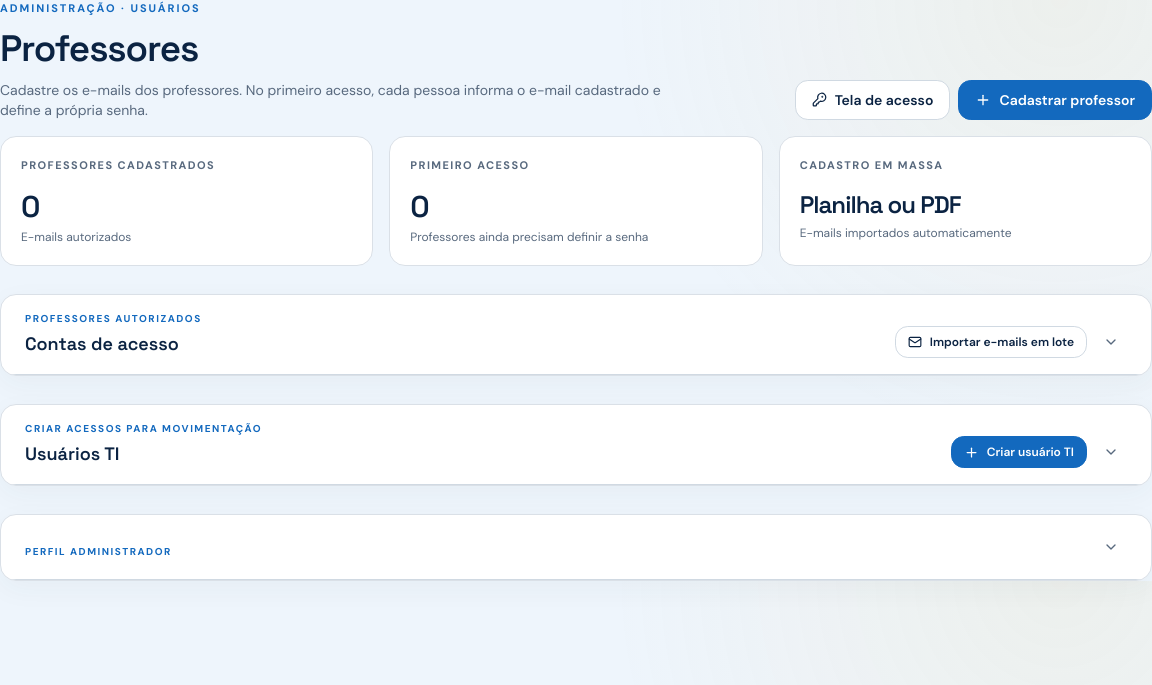
Test case: Teacher first access › Staff password changes › saves an administrator password through the administrator profile, not the TI profile
Click the button named "Maximizar Perfil administrador": (1111,547) [1095, 531, 1127, 563]
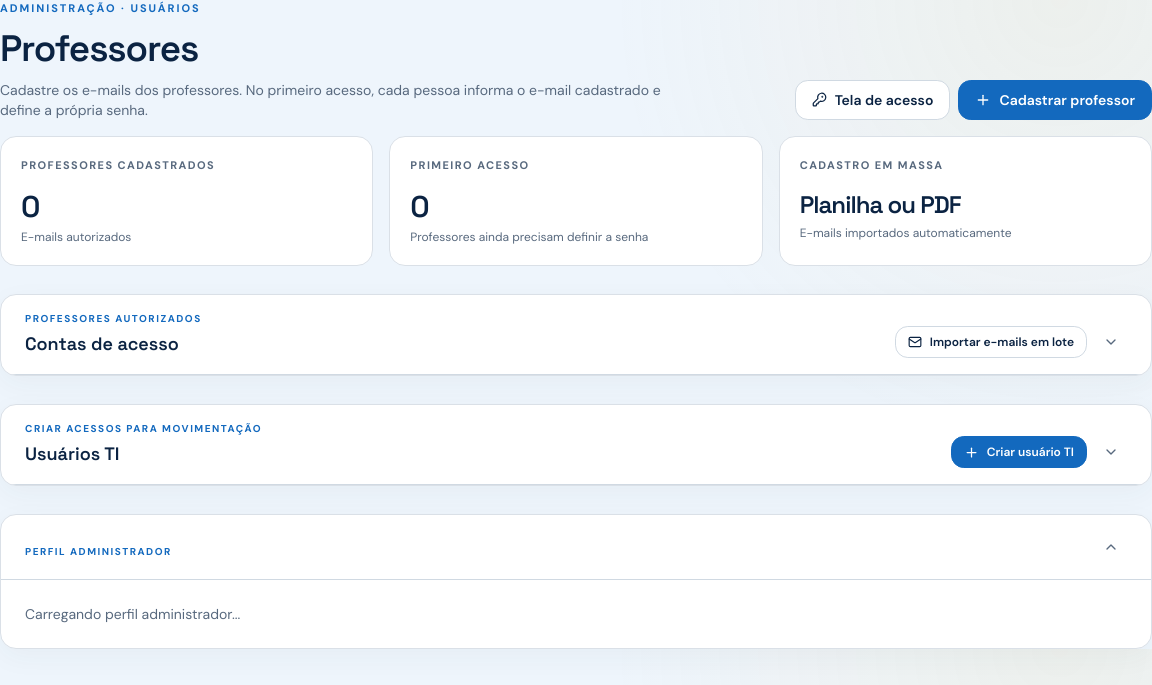
Click the button named "Maximizar Usuários TI": (1111,452) [1095, 436, 1127, 468]
(page scrolled)
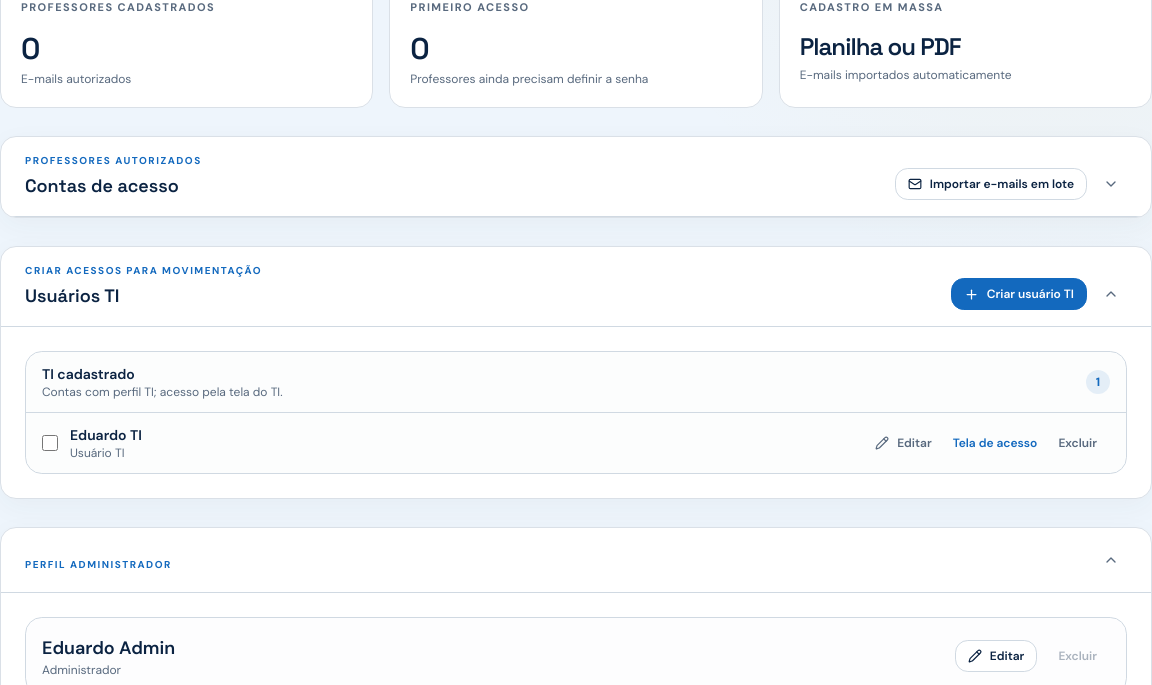
Check: the text "Eduardo TI" is shown, box [70, 425, 142, 445]
Click the button "Editar" in the row of "Eduardo Admin": (996,656) [955, 640, 1037, 672]
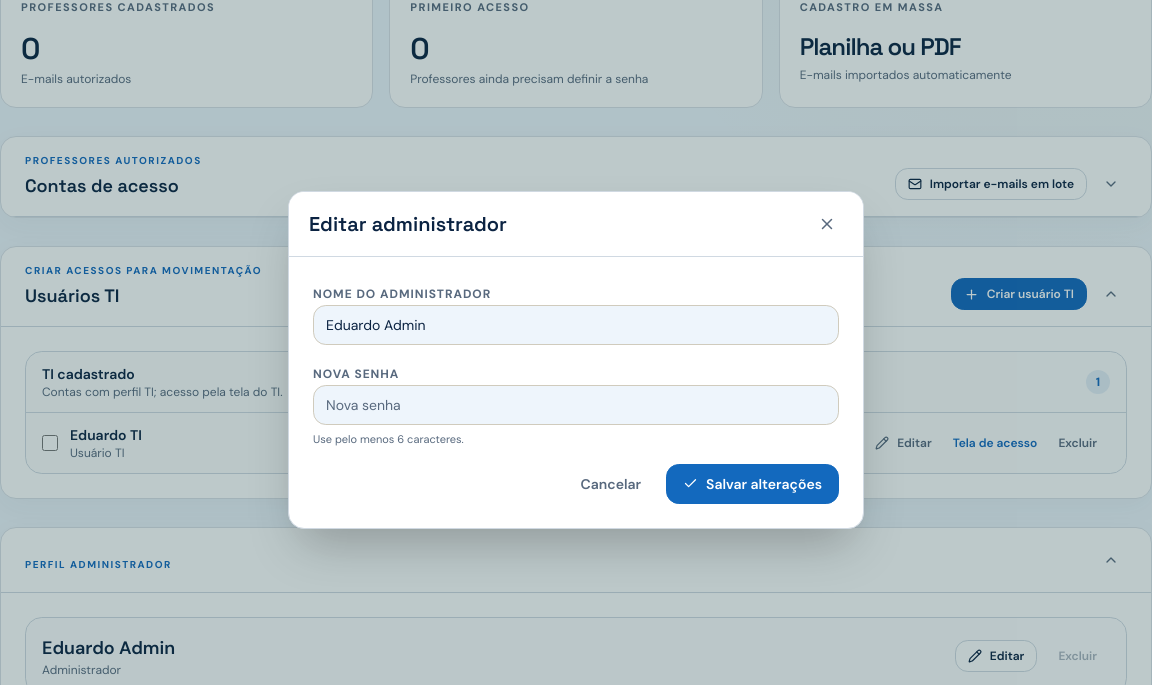
In the password field with placeholder "Nova senha": (576,405) [313, 385, 839, 425], type "nova-senha-admin"
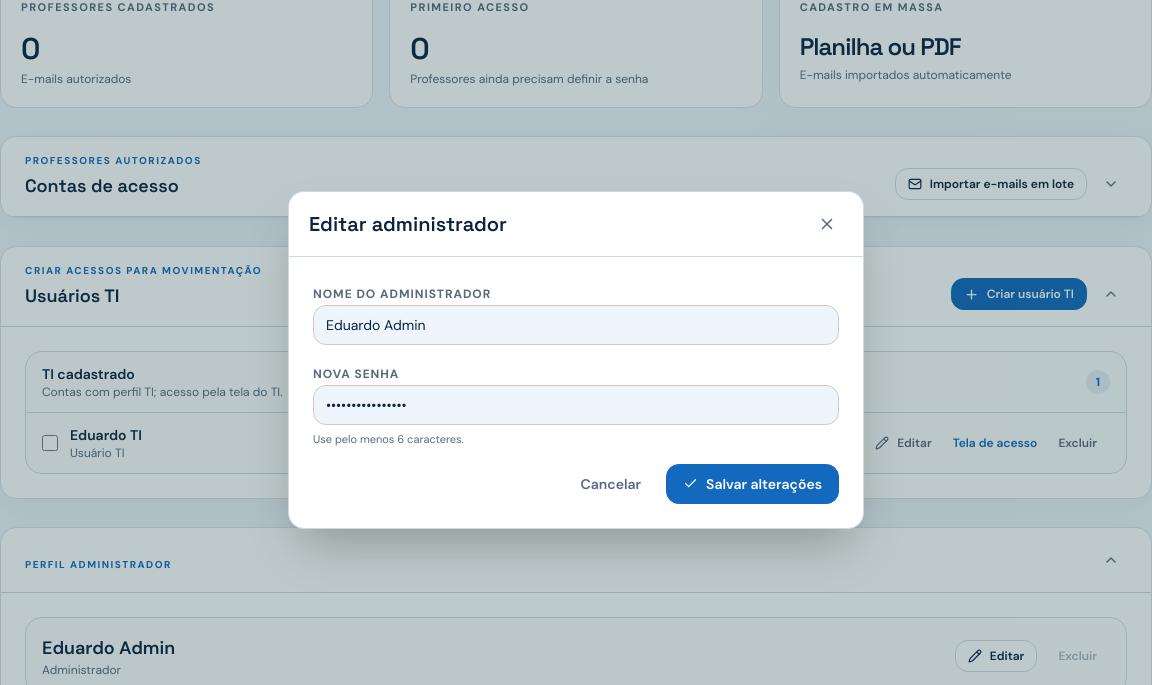
Click the button "Salvar alterações": (753,484) [666, 464, 839, 504]
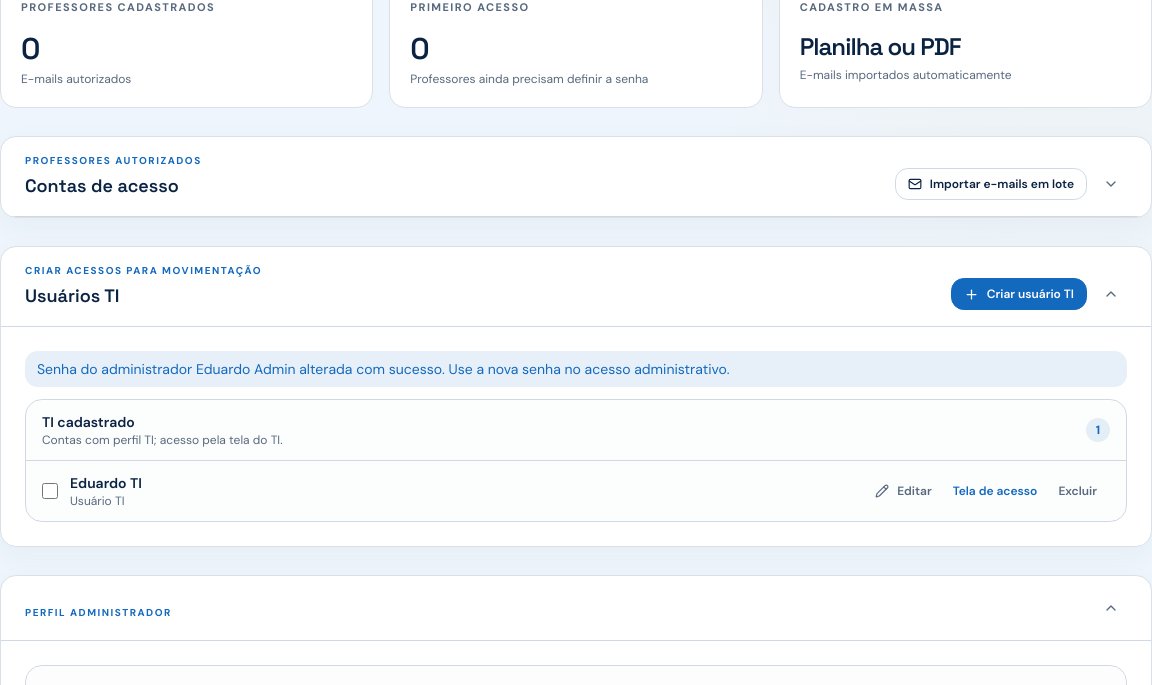
Check: the message shows "Senha do administrador Eduardo Admin alterada com sucesso.", box [37, 360, 730, 378]
